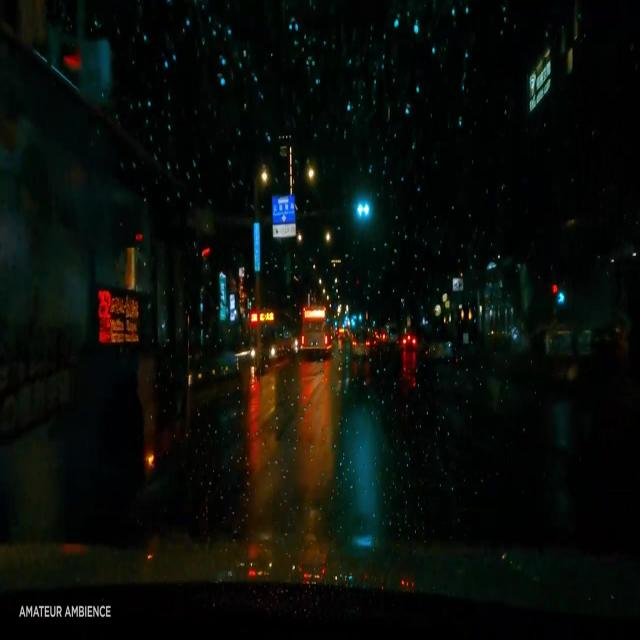Car: (350, 324, 371, 358)
